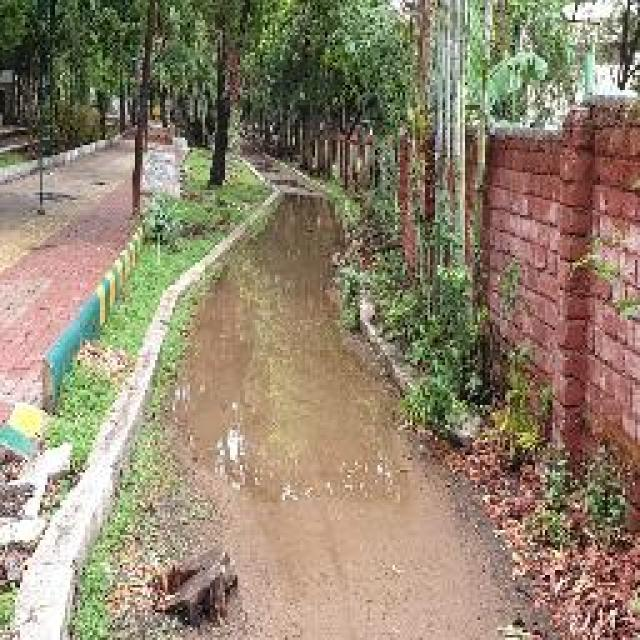puddle: (186, 283, 365, 485)
